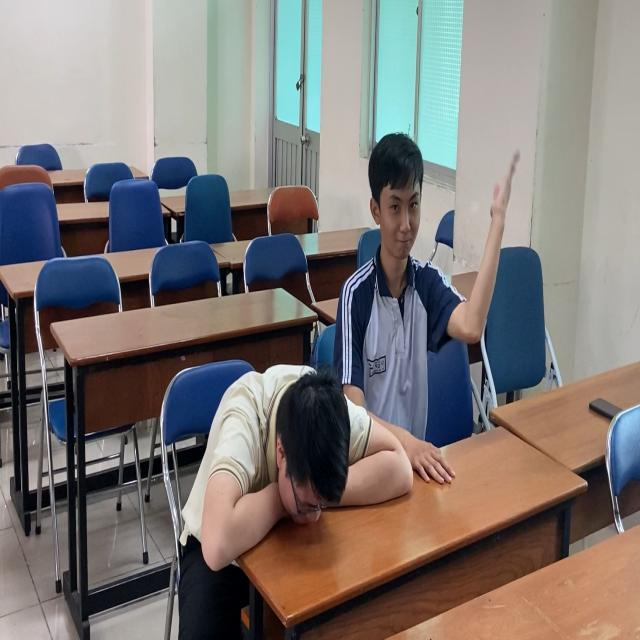raise_hand: (340, 127, 519, 453)
sleep: (182, 359, 407, 587)
